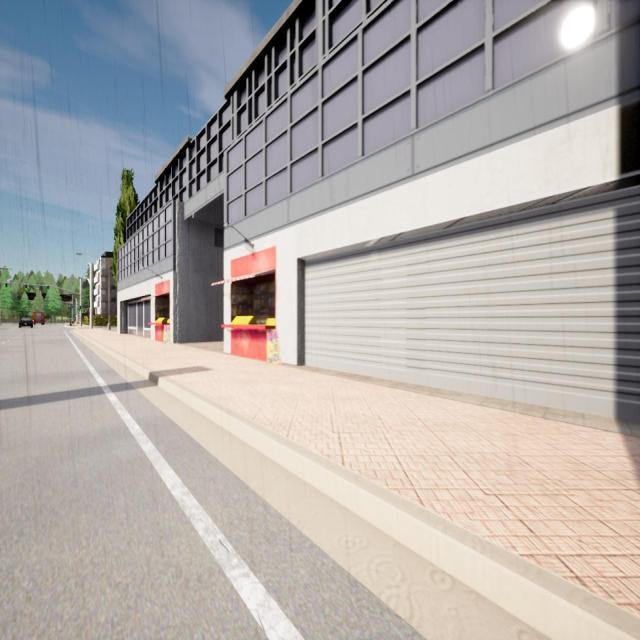Vehicle: (19, 314, 33, 328), (32, 310, 45, 325)
traffic_light: (5, 283, 8, 289), (88, 300, 90, 307), (84, 281, 86, 288), (25, 285, 27, 291), (47, 286, 49, 292), (82, 282, 84, 288), (86, 280, 88, 286), (80, 306, 81, 311)
